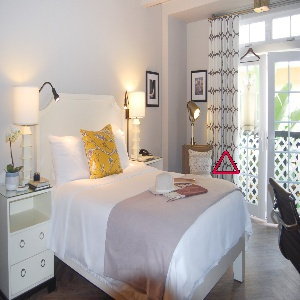triangle: (210, 149, 242, 177)
